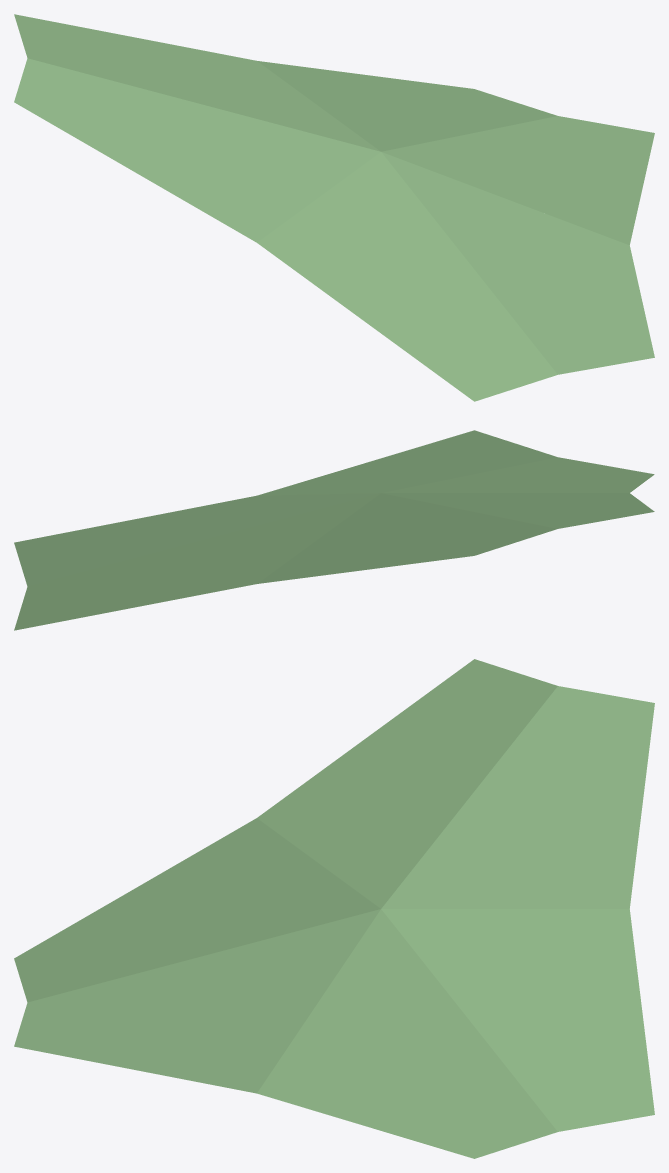
The model's file is 010.EdgeStitch.P0.L_B0.L_P0.O_B0.R_P0.R_B0.0.fbx.
3 views of the same model, one above another, from view 1: azimuth 30°, elevation 25°; view 2: azimuth 150°, elevation 25°; view 3: azimuth 270°, elevation 25° (orthographic).
Parts seen in each view (by area): view 1: 010.EdgeStitch.P0.L_B0.L_P0.O_B0.R_P0.R_B0.0; view 2: 010.EdgeStitch.P0.L_B0.L_P0.O_B0.R_P0.R_B0.0; view 3: 010.EdgeStitch.P0.L_B0.L_P0.O_B0.R_P0.R_B0.0.
Boxes of the visible parts, bbox=[...] form: 010.EdgeStitch.P0.L_B0.L_P0.O_B0.R_P0.R_B0.0: bbox=[14, 14, 654, 401]; 010.EdgeStitch.P0.L_B0.L_P0.O_B0.R_P0.R_B0.0: bbox=[14, 430, 654, 630]; 010.EdgeStitch.P0.L_B0.L_P0.O_B0.R_P0.R_B0.0: bbox=[14, 659, 654, 1158].
Bounding box in the file's own units: 0.7168 × 0.6208 × 0.2.
